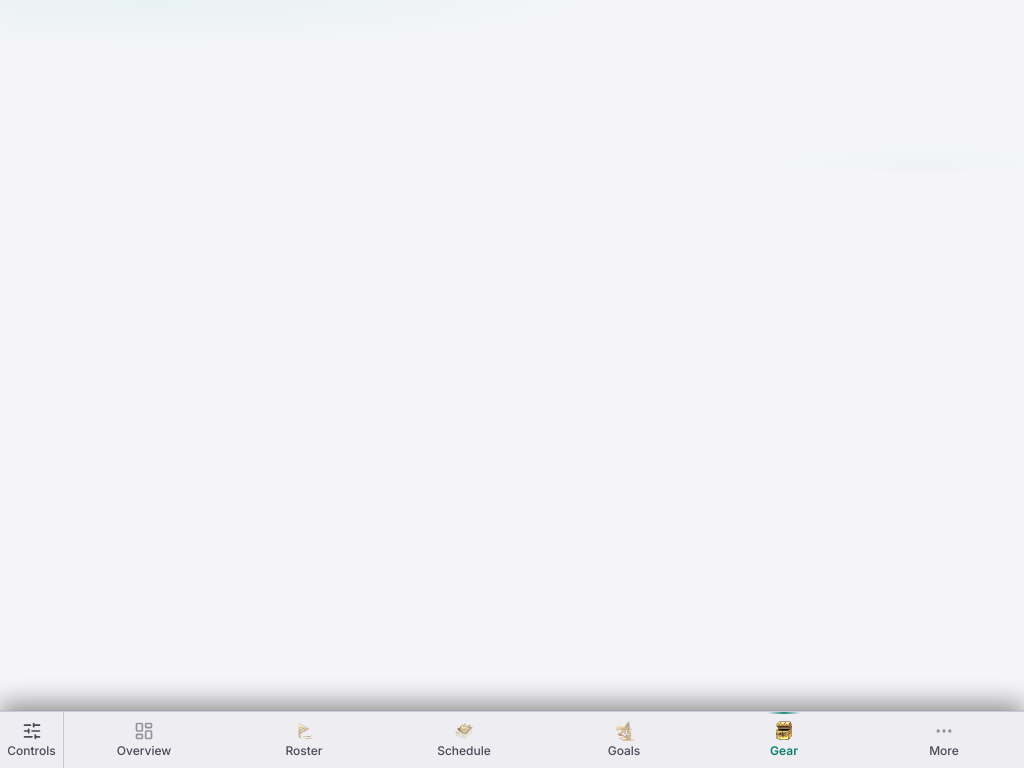
Test: GroupViewContent — canManageRoster gate on gear-log Reset Data (mobile Controls Sheet) › shows Reset Data controls for an owner (canManageRoster().allowed is true)
The width and height of the screenshot is (1024, 768).
Step 1. Click the button "Controls" → x=32, y=740, box [0,712,64,767]
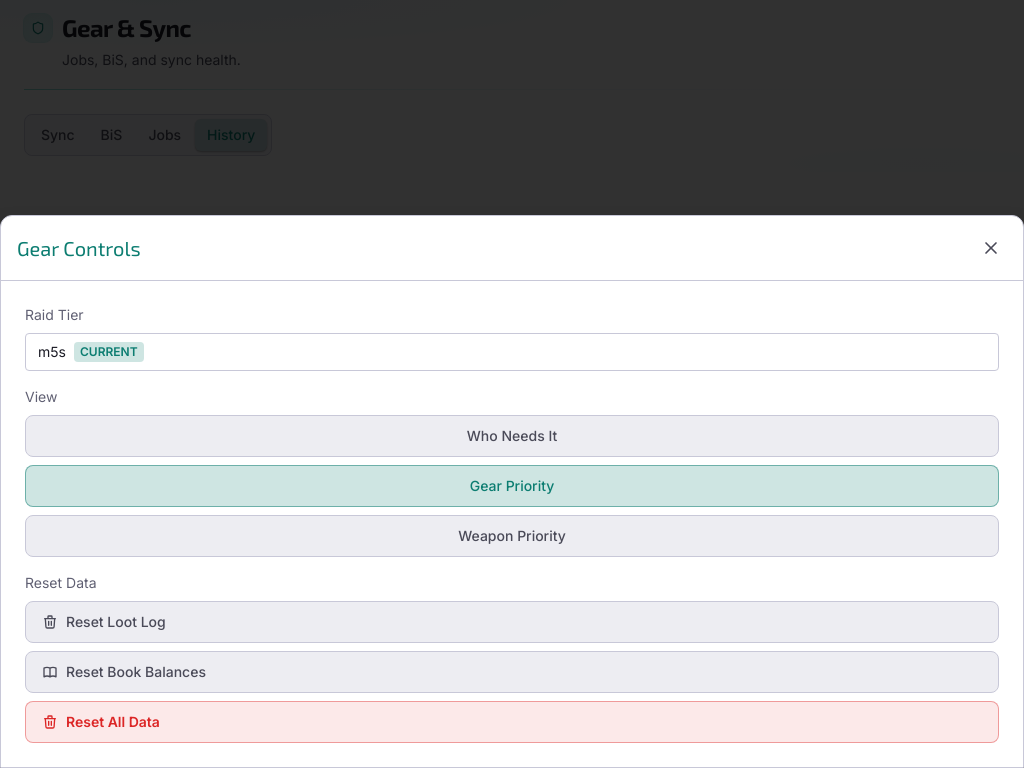
Expected: the text "Reset Data" is shown, [25,574,96,591]
Expected: the button "Reset Loot Log" is shown, [25,601,999,643]
